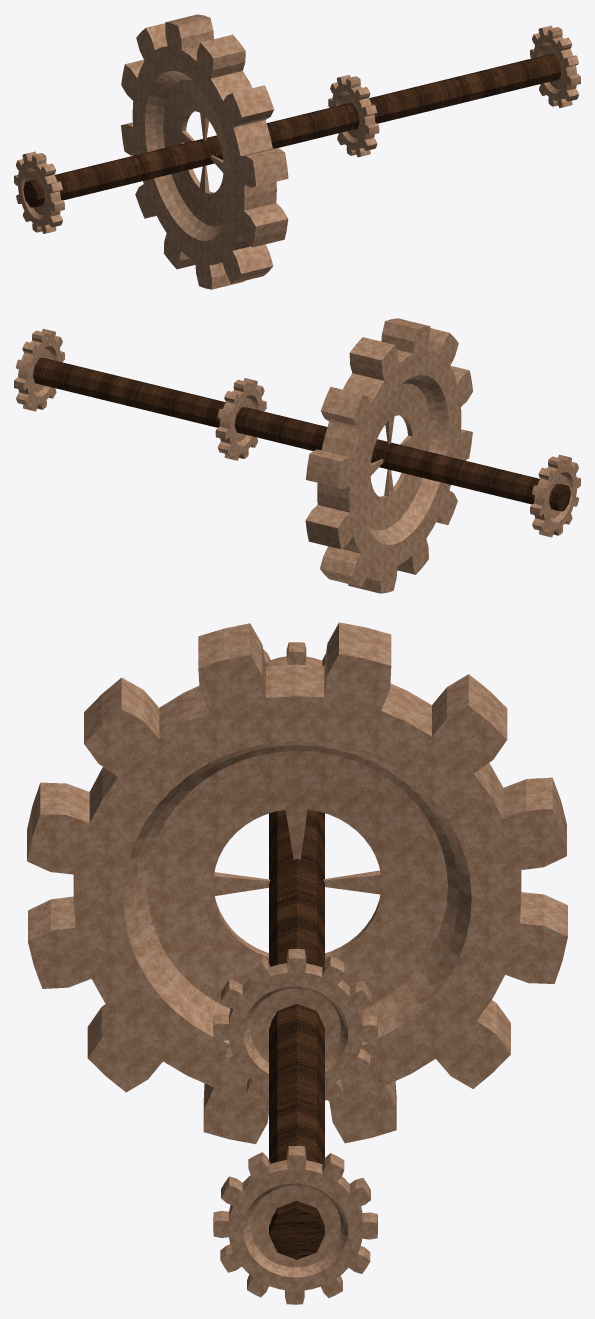
Rendered from xenotown-clock-gearx.glb.
3 views of the same model, one above another, from view 1: azimuth 30°, elevation 25°; view 2: azimuth 150°, elevation 25°; view 3: azimuth 270°, elevation 25° (orthographic). The views are drawn at different scales.
Parts seen in each view (by area): view 1: GearsX; view 2: GearsX; view 3: GearsX.
Boxes of the visible parts, x1,y1,x2,y2 form: GearsX: (14,14,580,289); GearsX: (14,318,580,593); GearsX: (27,622,567,1304).
Bounding box in the file's own units: 13.22 × 5.8 × 5.8.
Materials: 2 (2 with a texture image).
